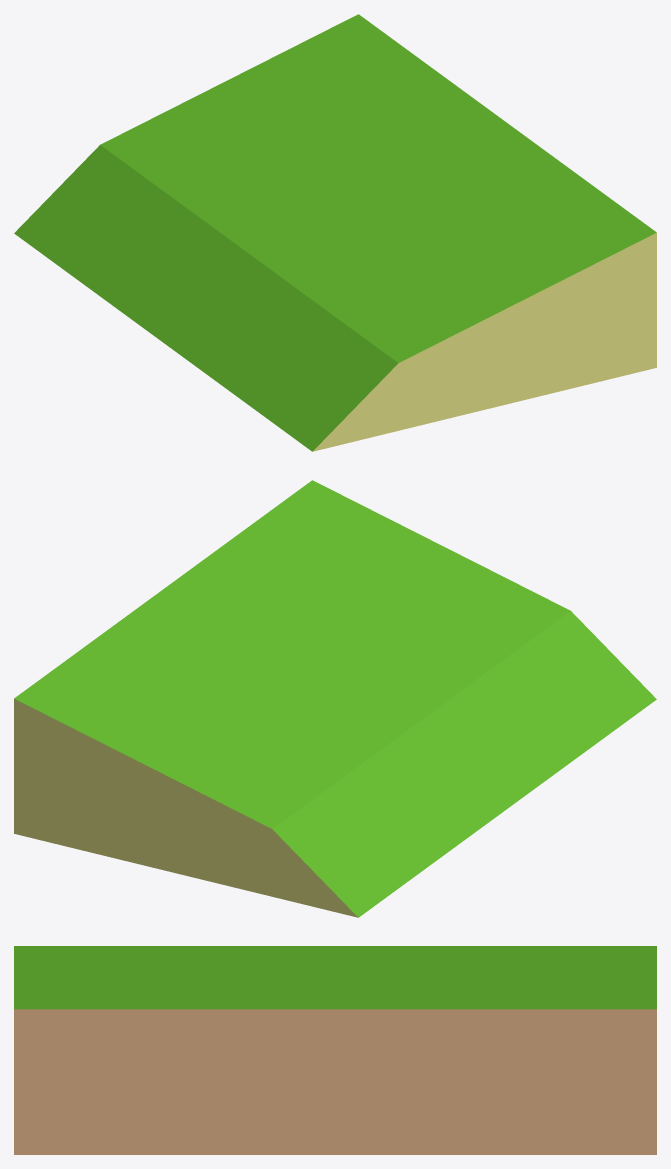
File: Grass_Carpet_Straight_1x1.glb
The picture shows the model from 3 angles, top to bottom: view 1: azimuth 30°, elevation 25°; view 2: azimuth 150°, elevation 25°; view 3: azimuth 270°, elevation 25°; orthographic projection. The views are drawn at different scales.
Parts seen in each view (by area): view 1: Grass_Carpet_Straight_1x1; view 2: Grass_Carpet_Straight_1x1; view 3: Grass_Carpet_Straight_1x1.
Boxes of the visible parts, x1=… form: Grass_Carpet_Straight_1x1: x1=14, y1=14, x2=656, y2=451; Grass_Carpet_Straight_1x1: x1=14, y1=480, x2=656, y2=917; Grass_Carpet_Straight_1x1: x1=14, y1=946, x2=656, y2=1154.
Size of the model in its own units: 66.67 by 25 by 100.
